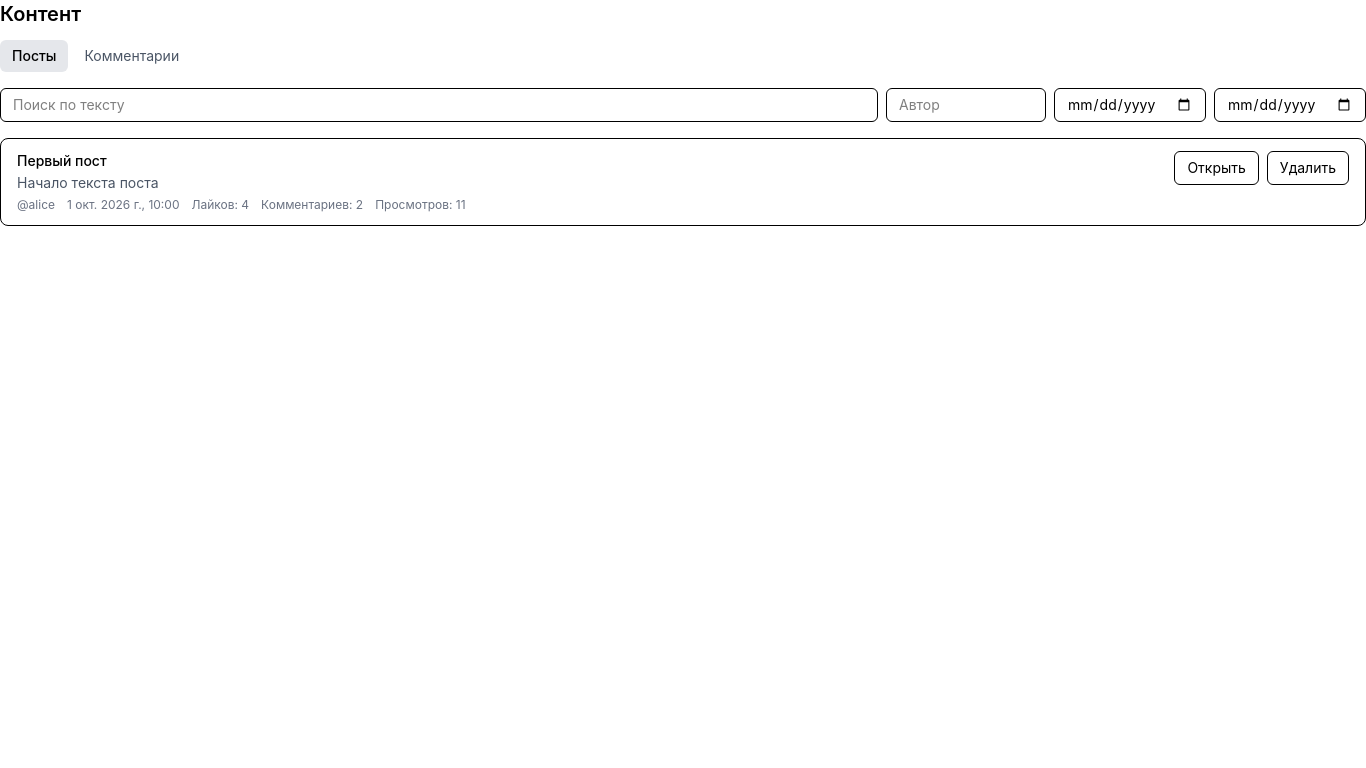
Test case: AdminContentPage: посты › ошибка сервера показывается в диалоге, диалог остаётся
Step 1. Click the button "Удалить" → (1308,168), box x1=1267 y1=151 x2=1349 y2=185
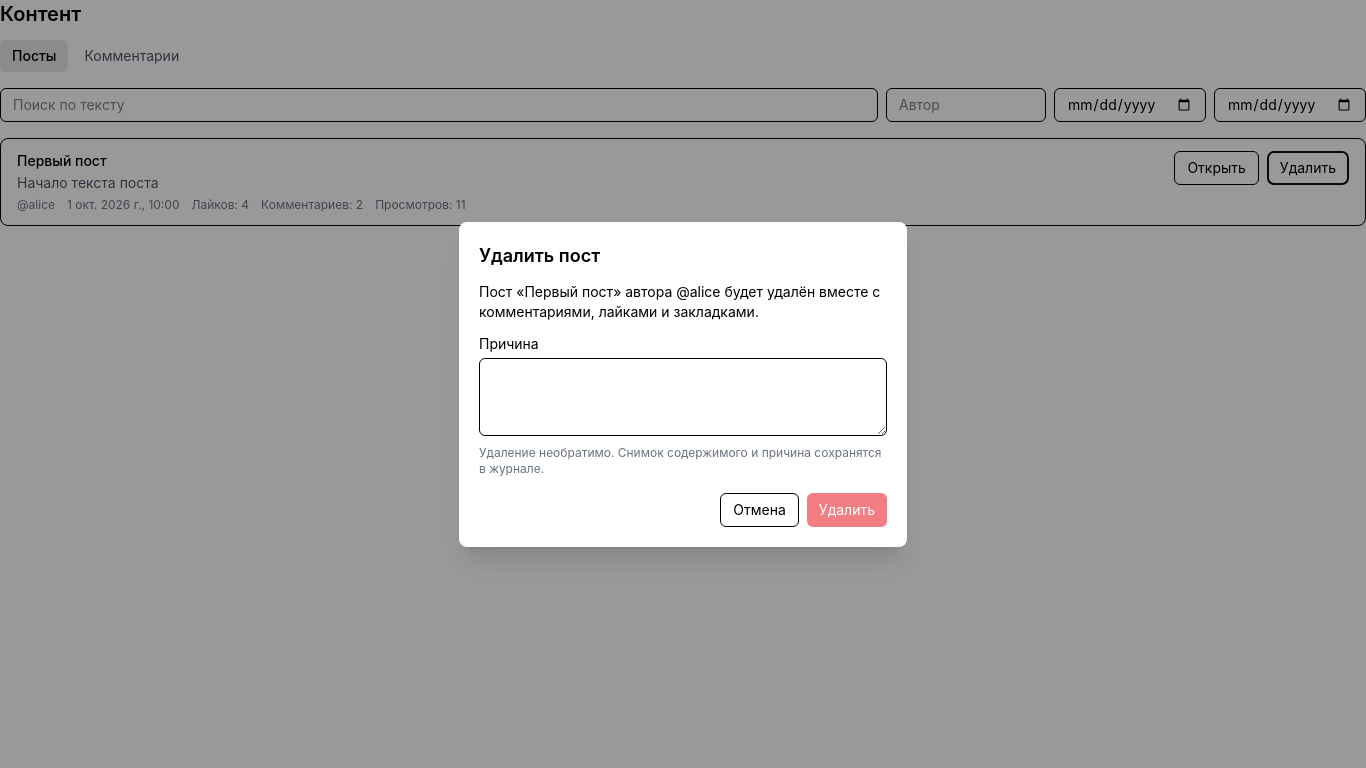
Step 2. Type "спам" into the text box labelled "Причина" → (683,396), box x1=479 y1=358 x2=887 y2=436
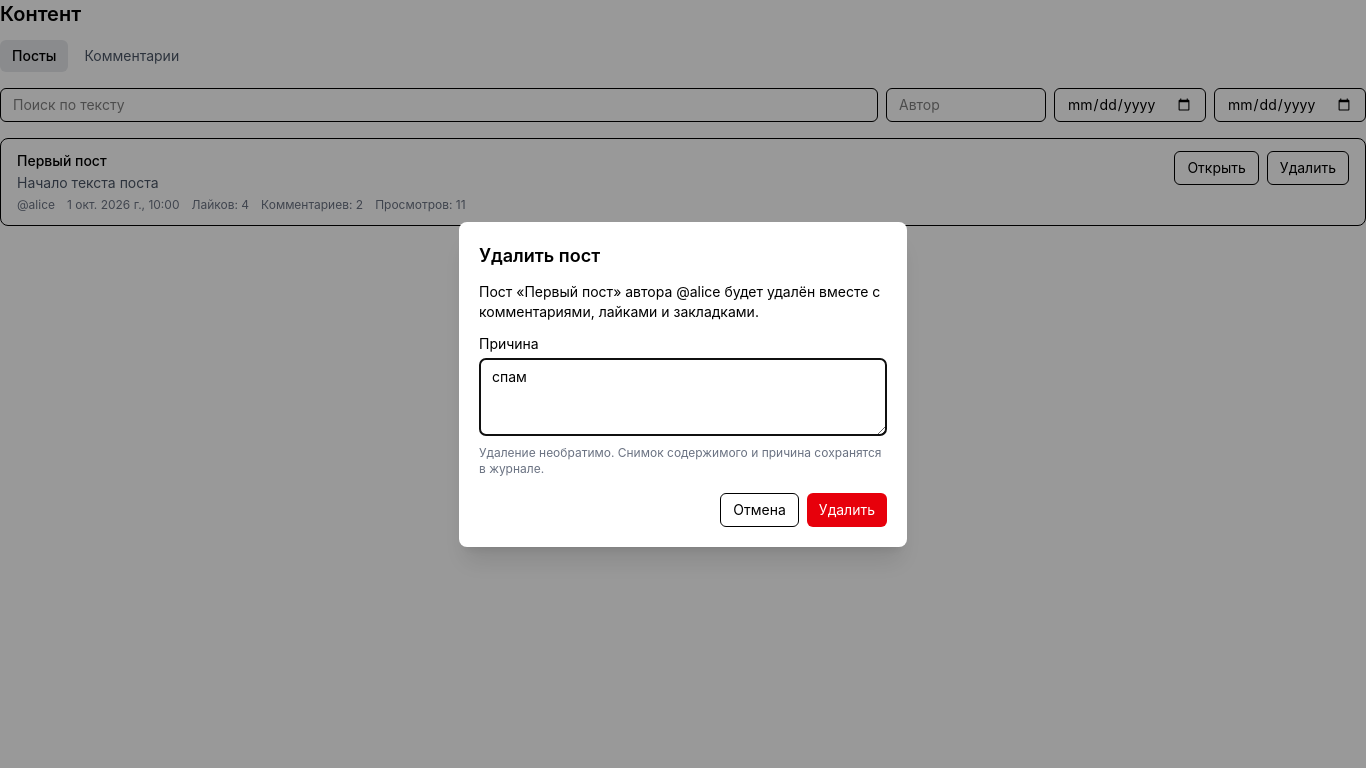
Step 3. Click the button "Удалить" → (847,510), box x1=807 y1=492 x2=887 y2=526
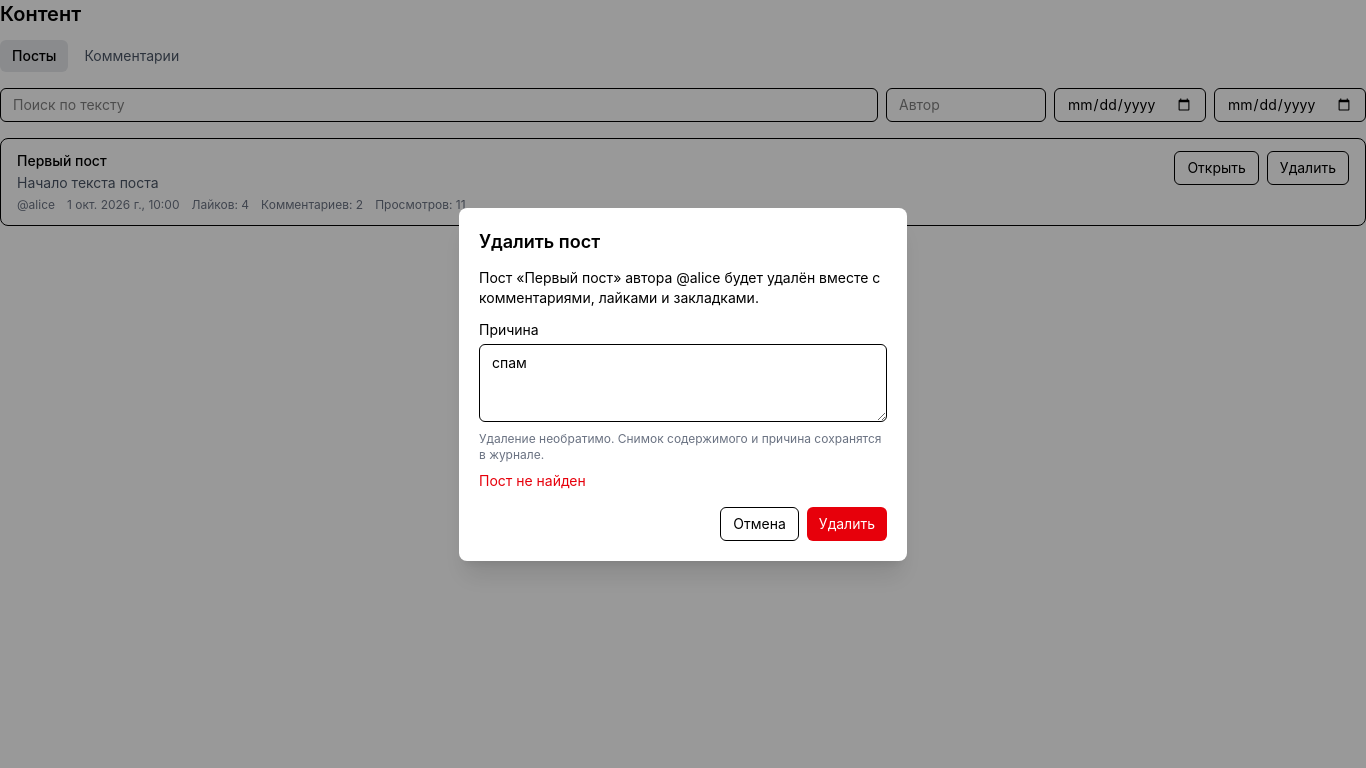
Now the dialog is shown, box x1=459 y1=208 x2=907 y2=560
Now the text "Пост не найден" is shown, box x1=479 y1=472 x2=586 y2=488
